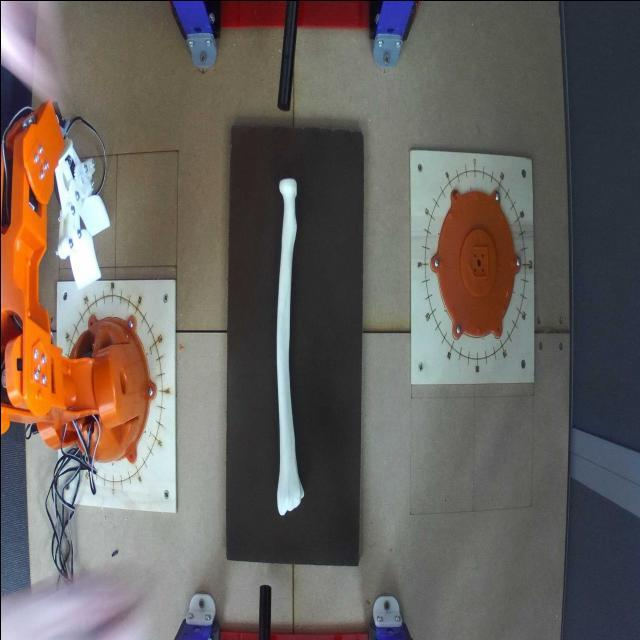bone: (268, 166, 306, 524)
